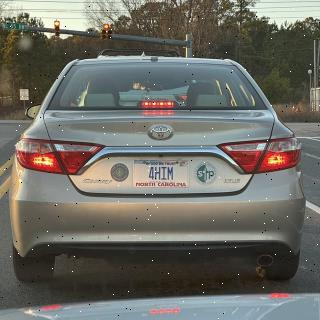license: (133, 159, 190, 189)
